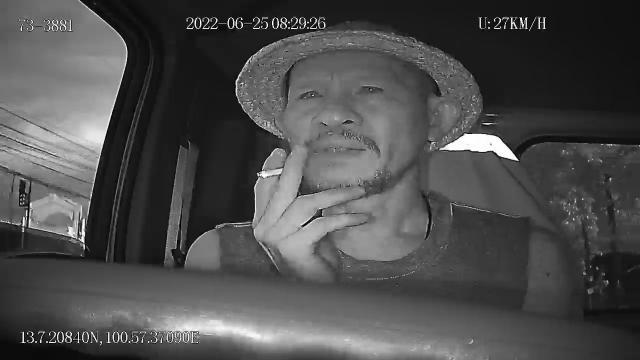SafeDriving: (349, 75, 390, 100), (292, 82, 329, 105)
Smoking: (256, 166, 284, 180)
